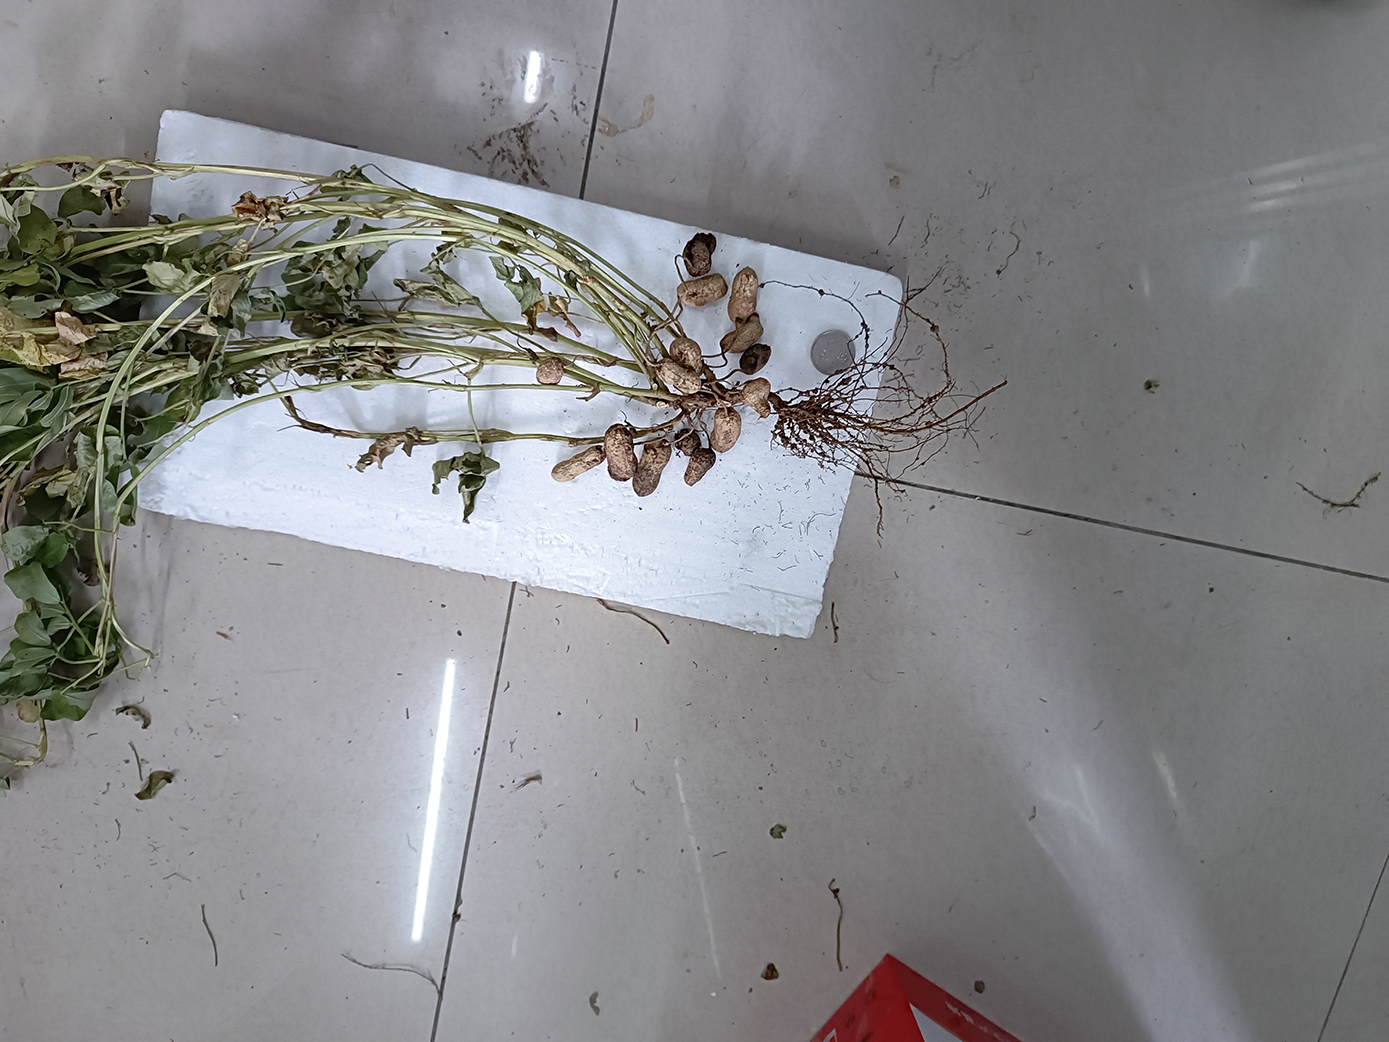h: (726, 266, 761, 323), (552, 445, 604, 483), (678, 274, 729, 306), (657, 357, 701, 393), (722, 316, 763, 354), (741, 377, 774, 416), (670, 334, 704, 369), (715, 408, 742, 450), (535, 357, 564, 385)
l: (632, 441, 671, 495), (604, 422, 637, 481), (684, 231, 718, 277), (682, 448, 715, 486), (741, 343, 769, 372), (673, 428, 701, 455)
